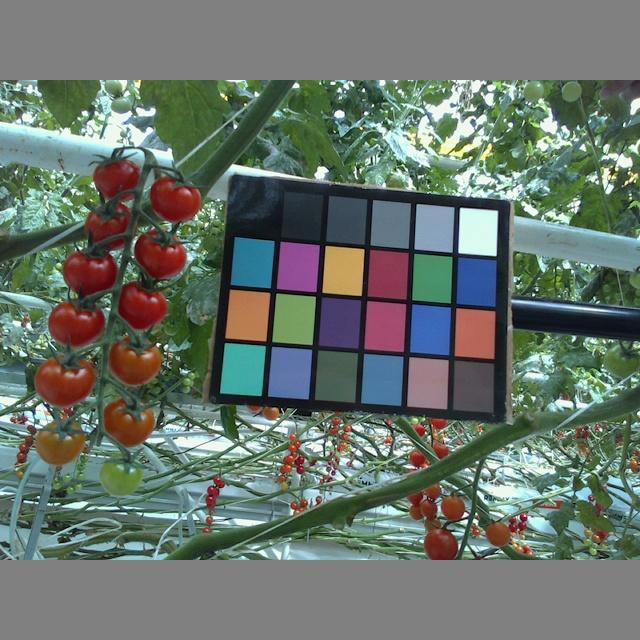green: (101, 451, 143, 497), (600, 339, 640, 377)
pink: (30, 354, 97, 405), (107, 333, 160, 387), (102, 395, 155, 446), (33, 419, 83, 465), (425, 526, 458, 559), (441, 493, 466, 521), (486, 518, 510, 547)
red: (61, 247, 118, 302), (131, 228, 188, 278), (46, 299, 104, 347), (83, 202, 134, 253), (149, 174, 201, 223), (114, 284, 166, 330), (90, 157, 140, 204)
